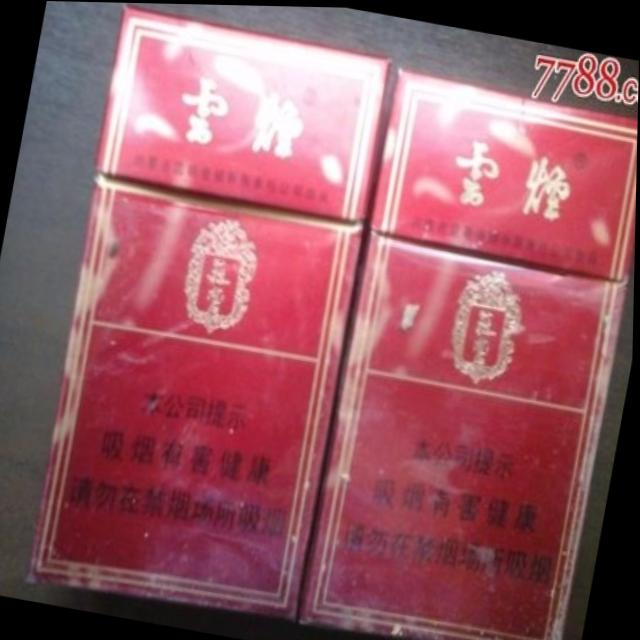box: (30, 3, 393, 620), (301, 67, 638, 640)
